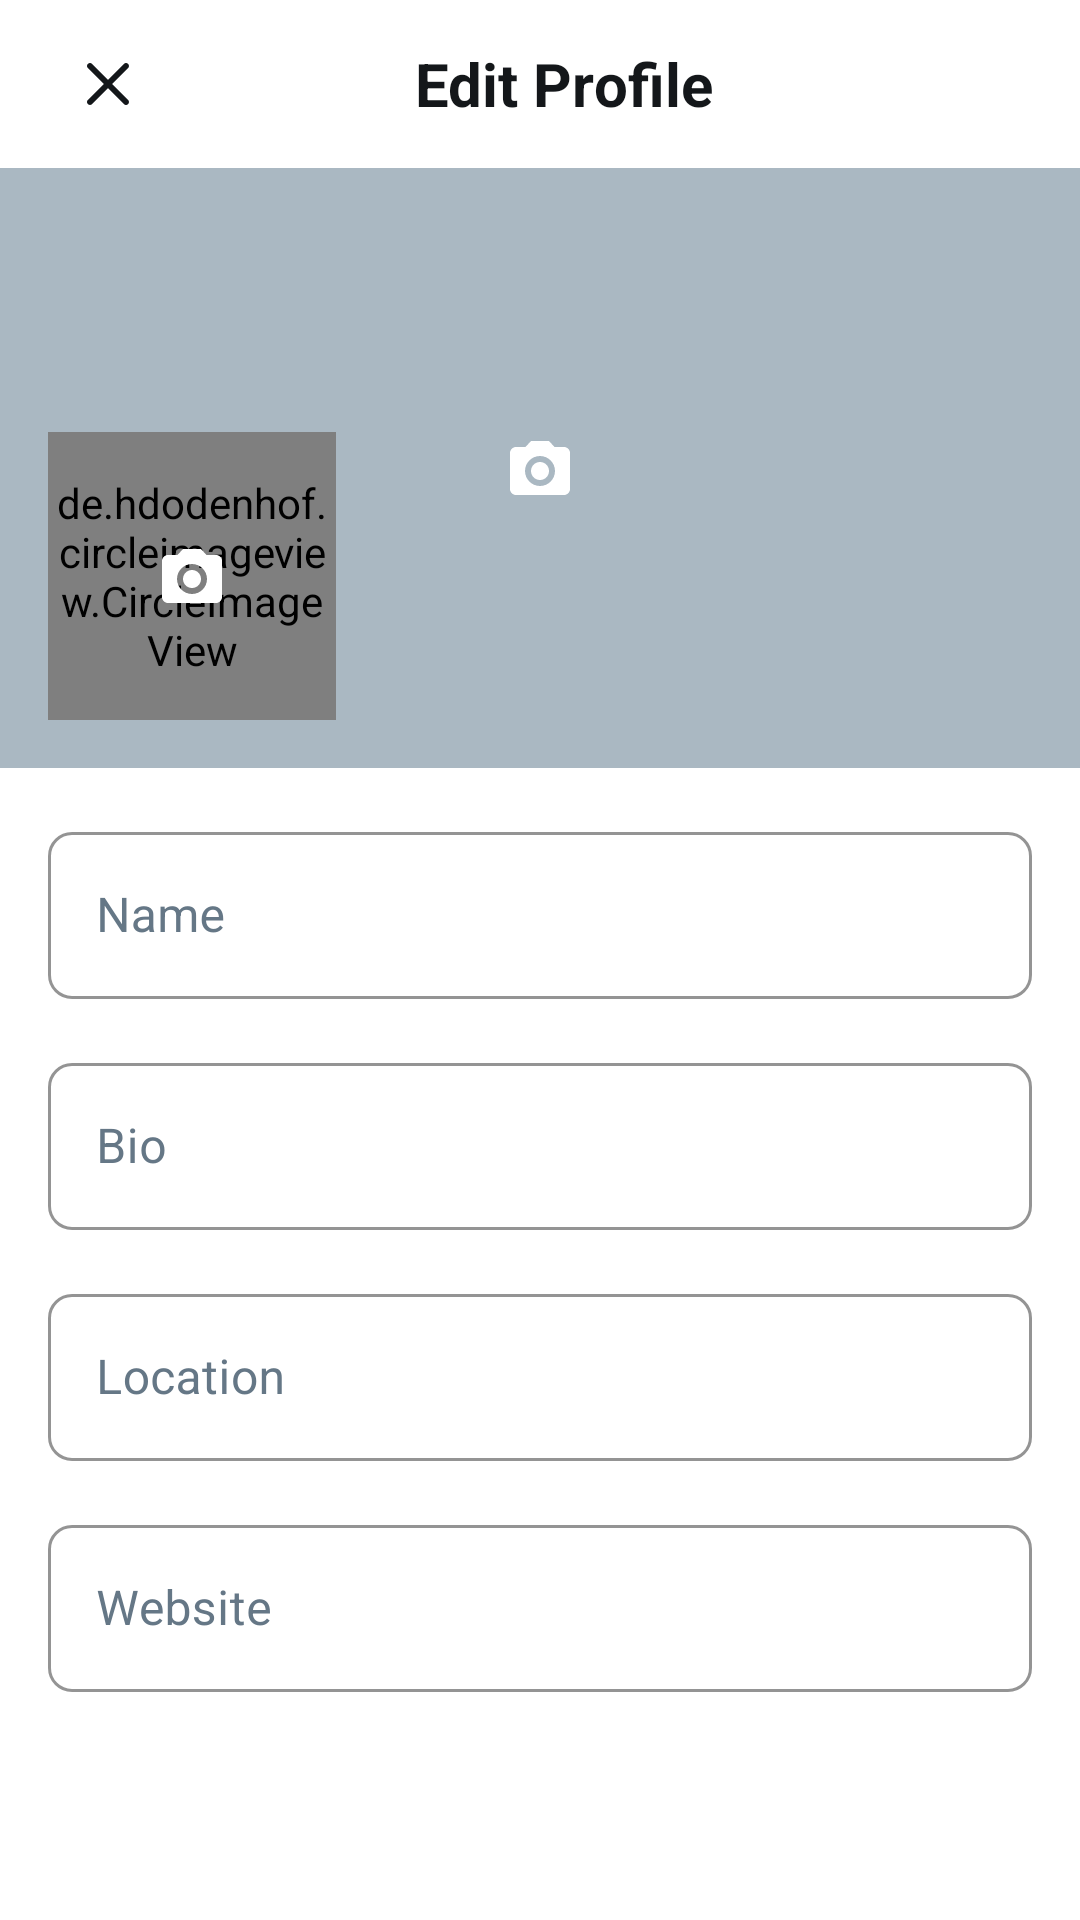

Icons on this 1080 × 1920 Android screen, each with its box as (x1, y1, x2, y2):
camera: (510, 441, 570, 495), (144, 538, 240, 618)
close: (87, 63, 129, 105)
